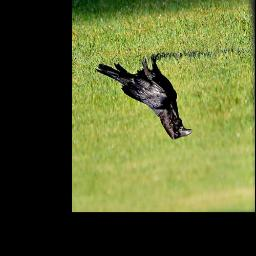Crow: (94, 52, 194, 142)
